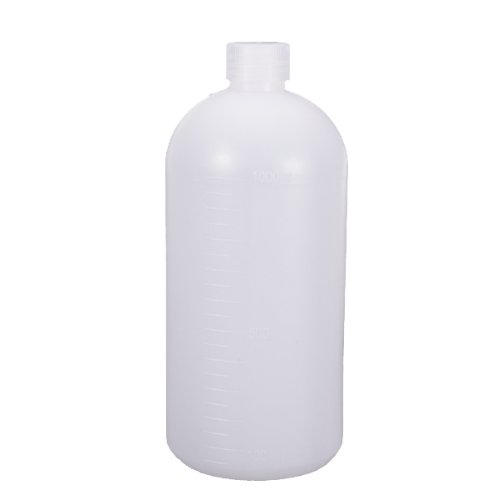emptybottle: (163, 41, 342, 481)
